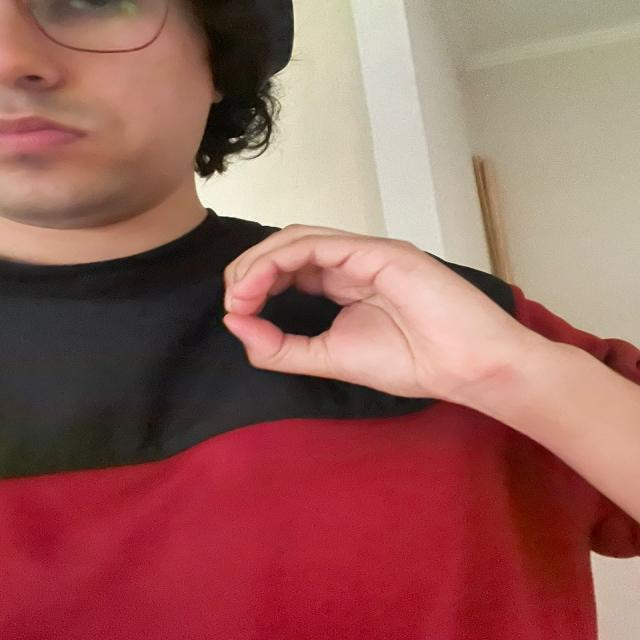O: (220, 211, 495, 414)
